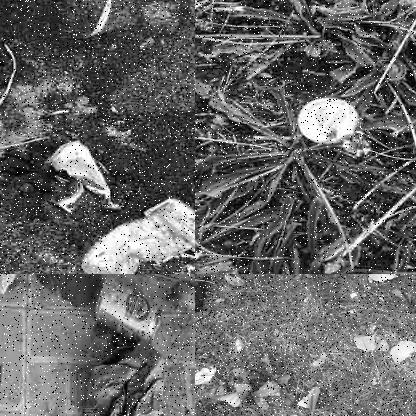metal: (90, 274, 164, 340)
plastic: (86, 202, 194, 273), (83, 342, 164, 415), (50, 139, 118, 210), (297, 93, 359, 145)
